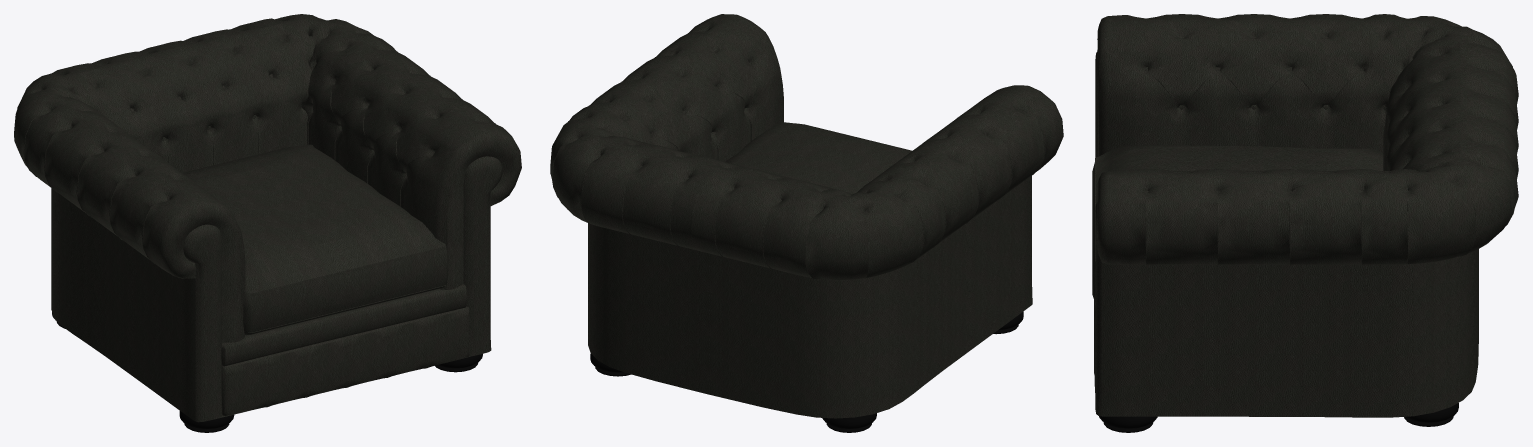
The model's file is chair.dae.
The picture shows the model from 3 angles, left to right: view 1: azimuth 30°, elevation 25°; view 2: azimuth 150°, elevation 25°; view 3: azimuth 270°, elevation 25°; orthographic projection. The views are drawn at different scales.
Parts seen in each view (by area): view 1: group_16, group_15, group_4, group_9, group_10, group_13, group_3, group_7, group_6, group_0, group_1; view 2: group_4, group_15, group_16, group_3, group_9, group_10, group_11; view 3: group_3, group_15, group_16, group_10, group_1, group_12.
Part boxes in pixels (box(x1,y1,x2,y2)): group_16: box(170, 14, 521, 289); group_15: box(14, 42, 245, 342); group_4: box(51, 188, 344, 422); group_9: box(218, 144, 448, 311); group_10: box(182, 164, 349, 335); group_13: box(221, 306, 469, 415); group_3: box(463, 156, 502, 357); group_7: box(221, 312, 345, 366); group_6: box(342, 284, 466, 336); group_0: box(179, 411, 234, 432); group_1: box(435, 354, 482, 372); group_4: box(709, 175, 1032, 418); group_15: box(691, 85, 1063, 280); group_16: box(550, 14, 783, 251); group_3: box(588, 223, 709, 394); group_9: box(725, 122, 875, 180); group_10: box(805, 141, 912, 194); group_11: box(822, 413, 876, 432); group_3: box(1095, 202, 1478, 417); group_15: box(1097, 14, 1518, 170); group_16: box(1097, 97, 1518, 265); group_10: box(1092, 145, 1383, 222); group_1: box(1099, 416, 1157, 432); group_12: box(1404, 403, 1458, 426).
Size of the model in its own units: 43.85 by 40.41 by 27.14.
